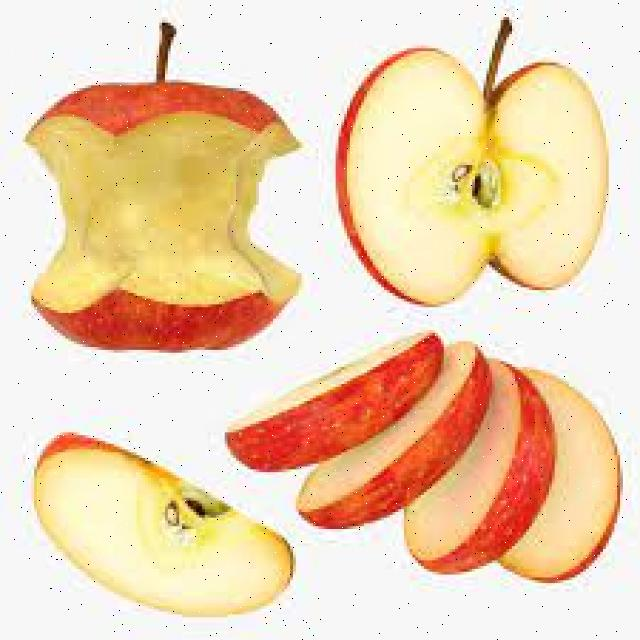Apple: (26, 73, 300, 351), (336, 46, 611, 300), (25, 426, 301, 618), (297, 336, 496, 532), (221, 328, 444, 470), (409, 358, 554, 568), (503, 362, 616, 590)
